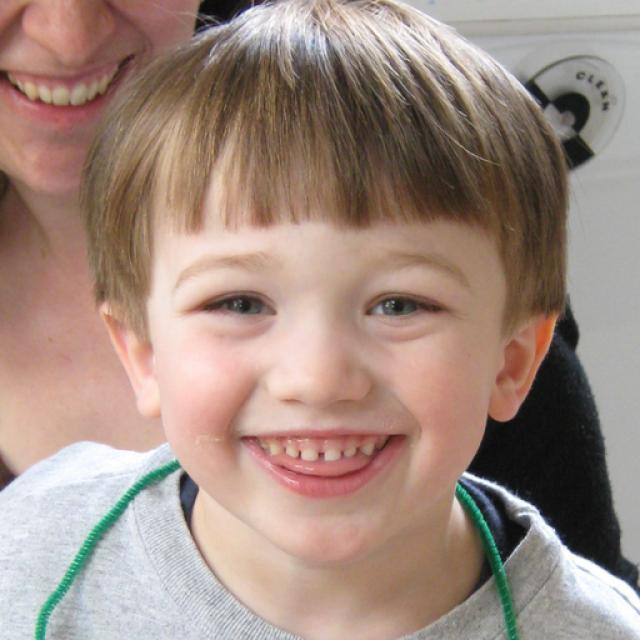happy: (155, 117, 498, 564)
